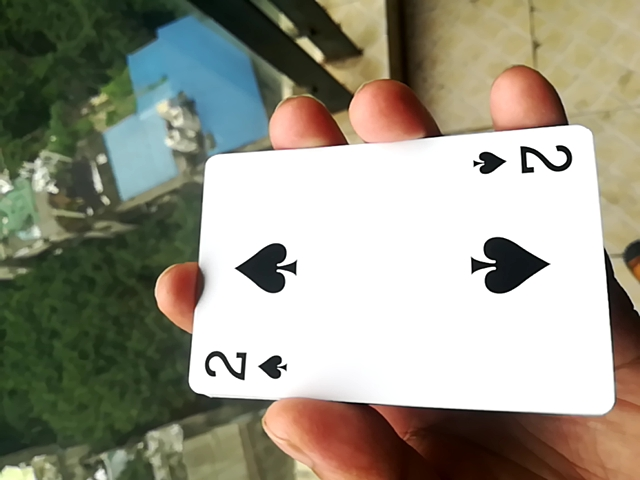ht 2: (171, 134, 617, 423)
